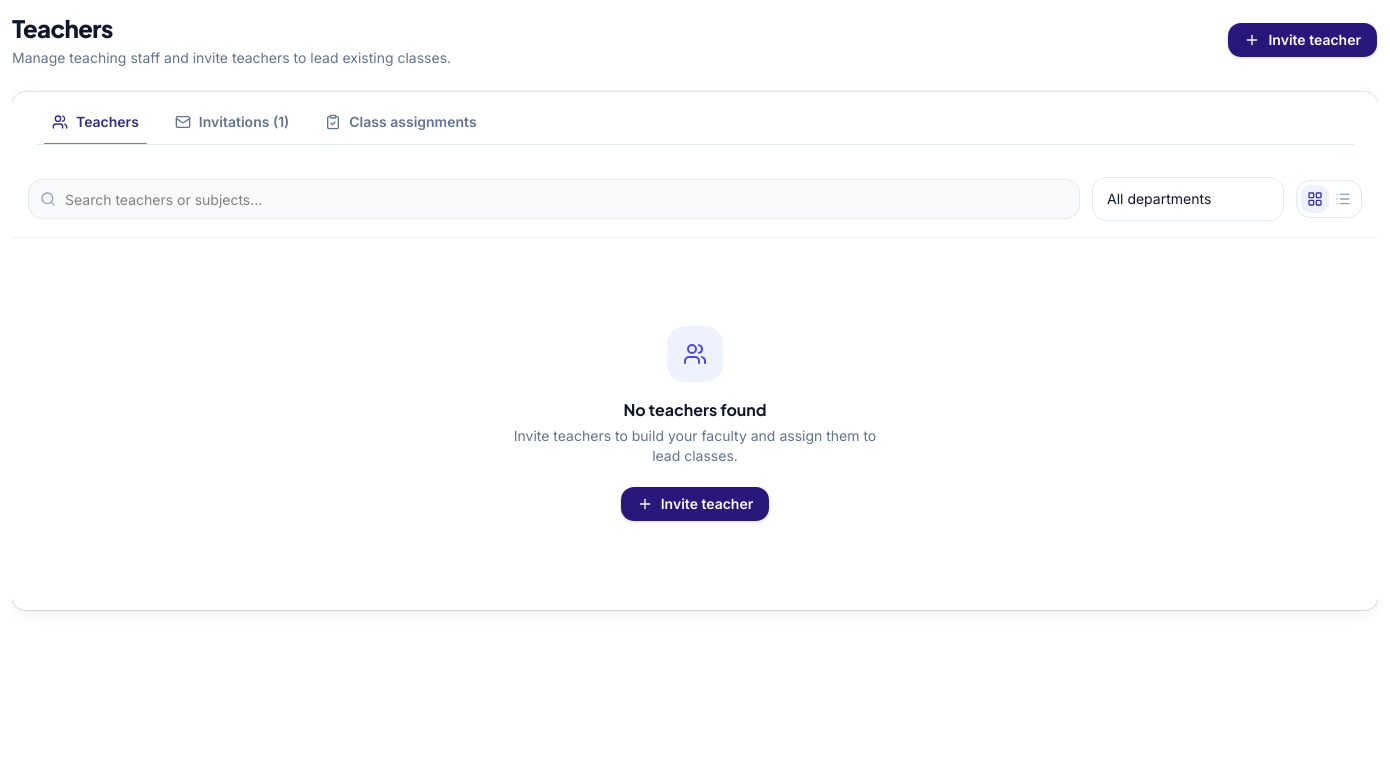
TeachersView › switches to invitations tab and displays invitations table without copy link
Click the tab "Invitations (1)": (232, 122) [159,100,305,144]
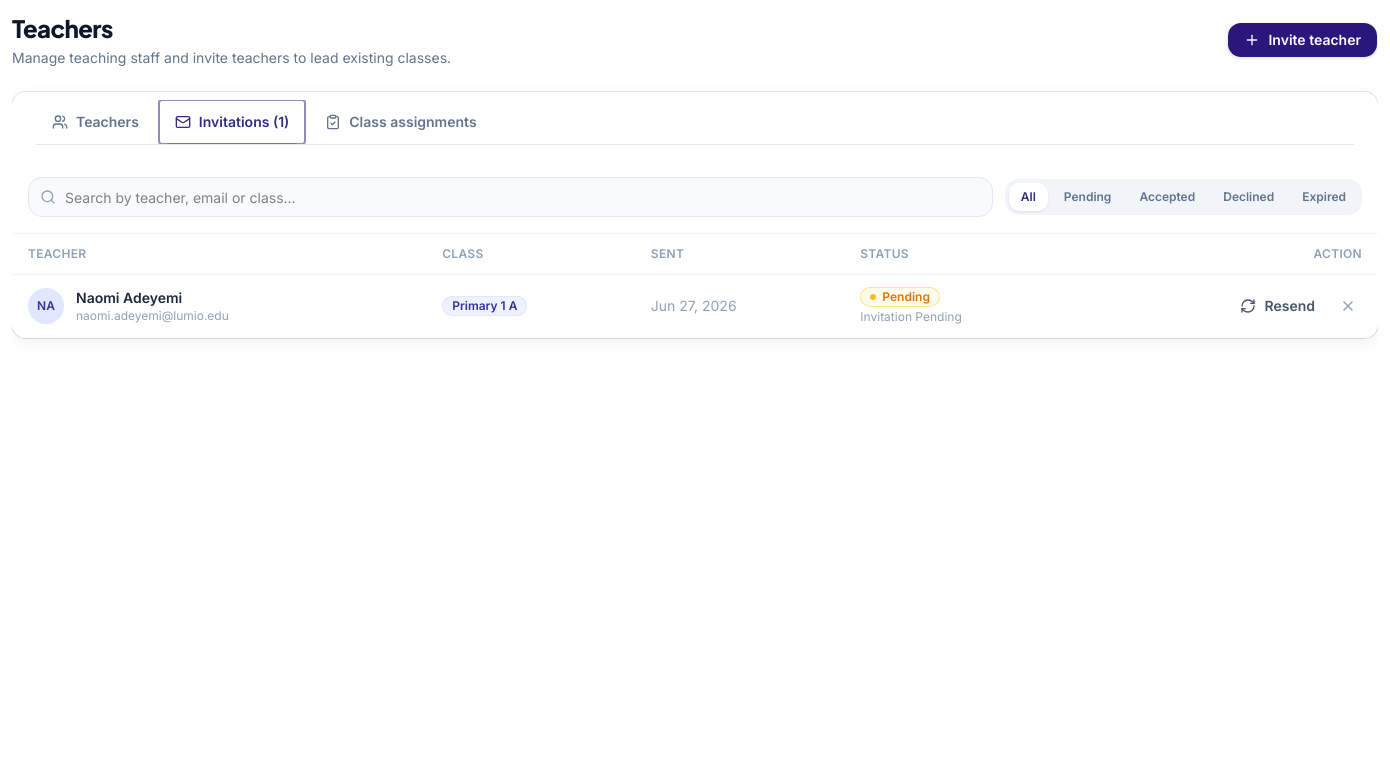
Check: the text "Naomi Adeyemi" is shown, box [76,289,182,306]
Check: the text "naomi.adeyemi@lumio.edu" is shown, box [76,308,229,324]
Check: the text "Primary 1 A" is shown, box [442,296,528,316]
